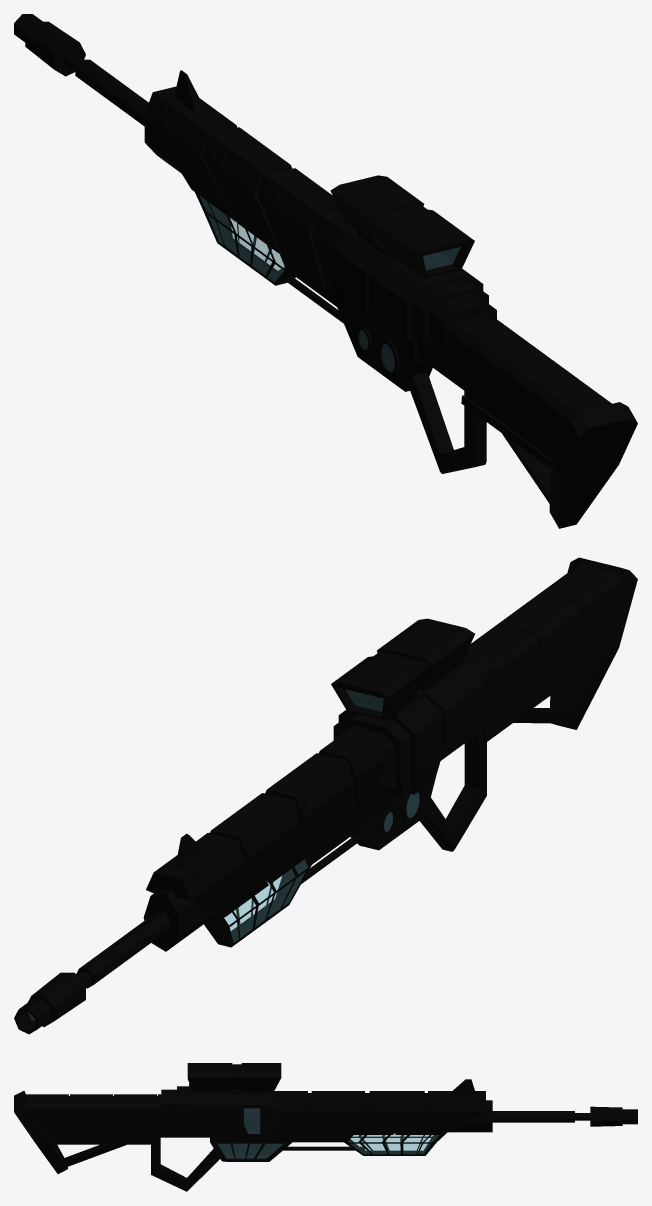
File: sniper.fbx
The picture shows the model from 3 angles, top to bottom: view 1: azimuth 30°, elevation 25°; view 2: azimuth 150°, elevation 25°; view 3: azimuth 270°, elevation 25°; orthographic projection. The views are drawn at different scales.
Parts seen in each view (by area): view 1: pCube13; view 2: pCube13; view 3: pCube13.
Part boxes in pixels (<box>): pCube13: <box>14,14,637,528</box>; pCube13: <box>14,557,637,1034</box>; pCube13: <box>14,1063,637,1191</box>.
Bounding box in the file's own units: 1.56 × 4.44 × 20.58.
